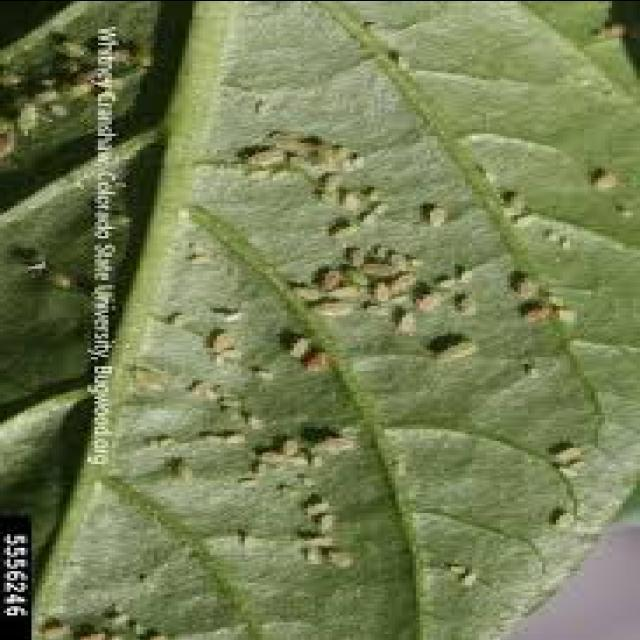aphid: (426, 328, 489, 366), (308, 421, 368, 456), (126, 356, 175, 398), (10, 95, 60, 135), (238, 138, 298, 170), (416, 193, 462, 230), (164, 449, 207, 486), (307, 291, 363, 319), (493, 182, 539, 214), (588, 158, 630, 193), (322, 538, 364, 572), (49, 30, 98, 58), (511, 266, 549, 302), (284, 326, 322, 361), (325, 212, 371, 240), (304, 340, 342, 372), (392, 300, 426, 335), (452, 286, 489, 318), (518, 296, 560, 324), (42, 263, 84, 291), (357, 251, 402, 277), (511, 200, 549, 230), (549, 435, 591, 461), (231, 522, 269, 550), (294, 526, 343, 547), (552, 298, 588, 326), (298, 490, 340, 514), (38, 612, 80, 636), (161, 302, 203, 326), (206, 324, 242, 352), (248, 356, 286, 382), (32, 79, 70, 105), (416, 284, 451, 312), (430, 266, 465, 294), (367, 274, 402, 302), (286, 277, 332, 298), (392, 44, 424, 74), (549, 501, 584, 528), (220, 421, 256, 447), (196, 421, 234, 445), (182, 372, 220, 396), (214, 386, 252, 410), (346, 144, 381, 170), (276, 431, 312, 456), (454, 256, 486, 284), (521, 356, 556, 380), (311, 507, 346, 531), (339, 182, 367, 212), (102, 602, 140, 624), (244, 402, 276, 428), (458, 563, 490, 587), (360, 179, 392, 203), (220, 300, 256, 321), (294, 468, 329, 489), (98, 208, 140, 225), (231, 471, 269, 488), (444, 556, 479, 574), (616, 195, 640, 221), (406, 249, 434, 270)
